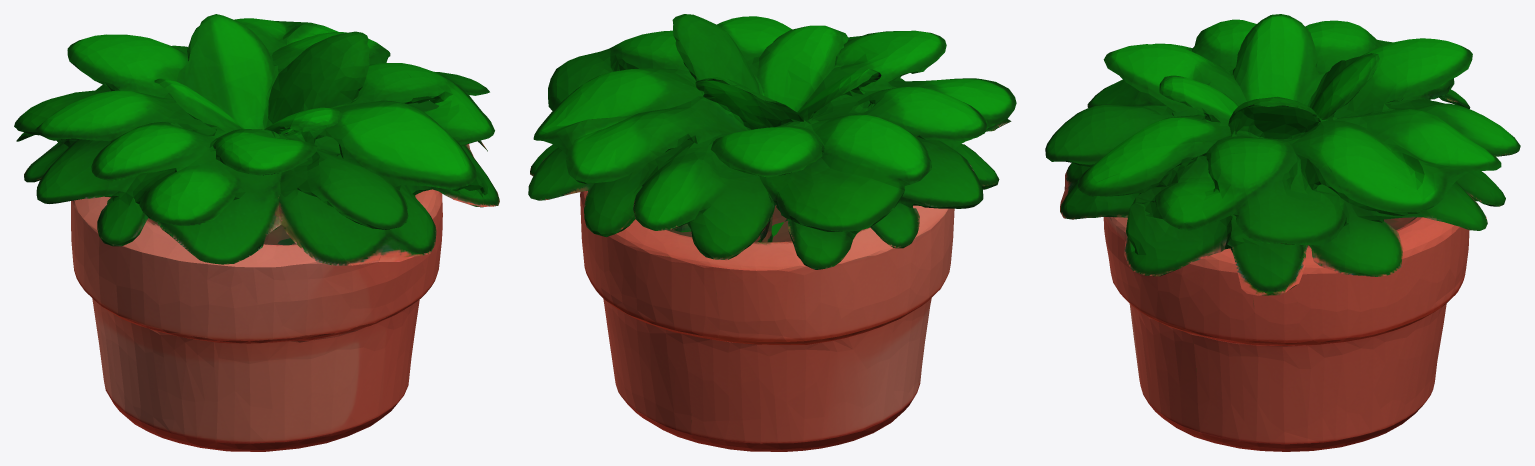
The picture shows the model from 3 angles, left to right: view 1: azimuth 30°, elevation 25°; view 2: azimuth 150°, elevation 25°; view 3: azimuth 270°, elevation 25°; orthographic projection. The views are drawn at different scales.
Parts seen in each view (by area): view 1: world; view 2: world; view 3: world.
Part boxes in pixels (x1,y1,x2,y2): world: (14,14,499,451); world: (528,14,1016,451); world: (1045,14,1520,451).
Size of the model in its own units: 61.53 by 47.2 by 59.16.
1 material, 1 textured.
